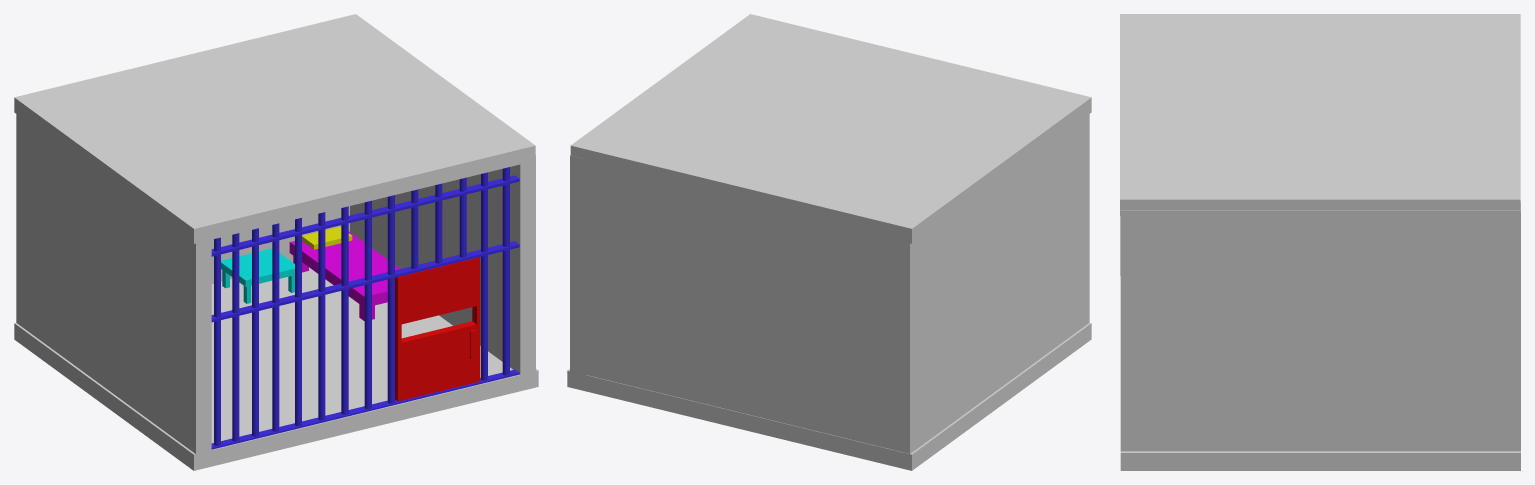
The model's file is Prison Cell.fbx.
3 views of the same model, side by side, from view 1: azimuth 30°, elevation 25°; view 2: azimuth 150°, elevation 25°; view 3: azimuth 270°, elevation 25° (orthographic). The views are drawn at different scales.
Visible parts, largest first — view 1: Cell, Roof, Front Gate, Door, Bed 1, Table 1, Pillow 1; view 2: Cell, Roof; view 3: Cell, Roof.
Boxes of the visible parts, bbox=[...] form: Cell: bbox=[14, 114, 538, 470]; Roof: bbox=[14, 14, 535, 243]; Front Gate: bbox=[211, 167, 519, 449]; Door: bbox=[395, 257, 480, 401]; Bed 1: bbox=[289, 231, 399, 320]; Table 1: bbox=[221, 248, 294, 303]; Pillow 1: bbox=[302, 226, 352, 249]; Cell: bbox=[567, 114, 1091, 470]; Roof: bbox=[570, 14, 1091, 243]; Cell: bbox=[1120, 203, 1520, 470]; Roof: bbox=[1120, 14, 1520, 216].
Bounding box in the file's own units: 1089 × 731 × 984.
